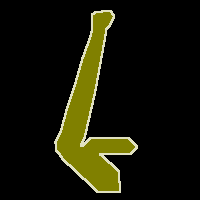tie: (55, 10, 137, 192)
